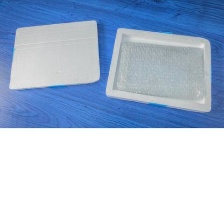foam_box: (101, 23, 218, 116), (6, 17, 104, 93)
